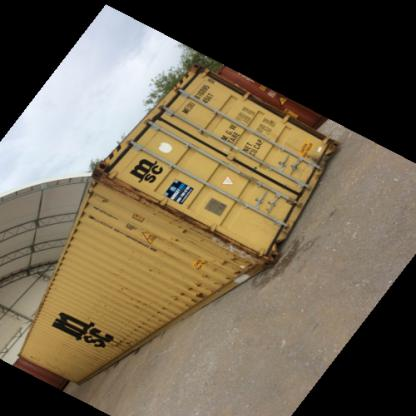Damage: (186, 233, 264, 257)
